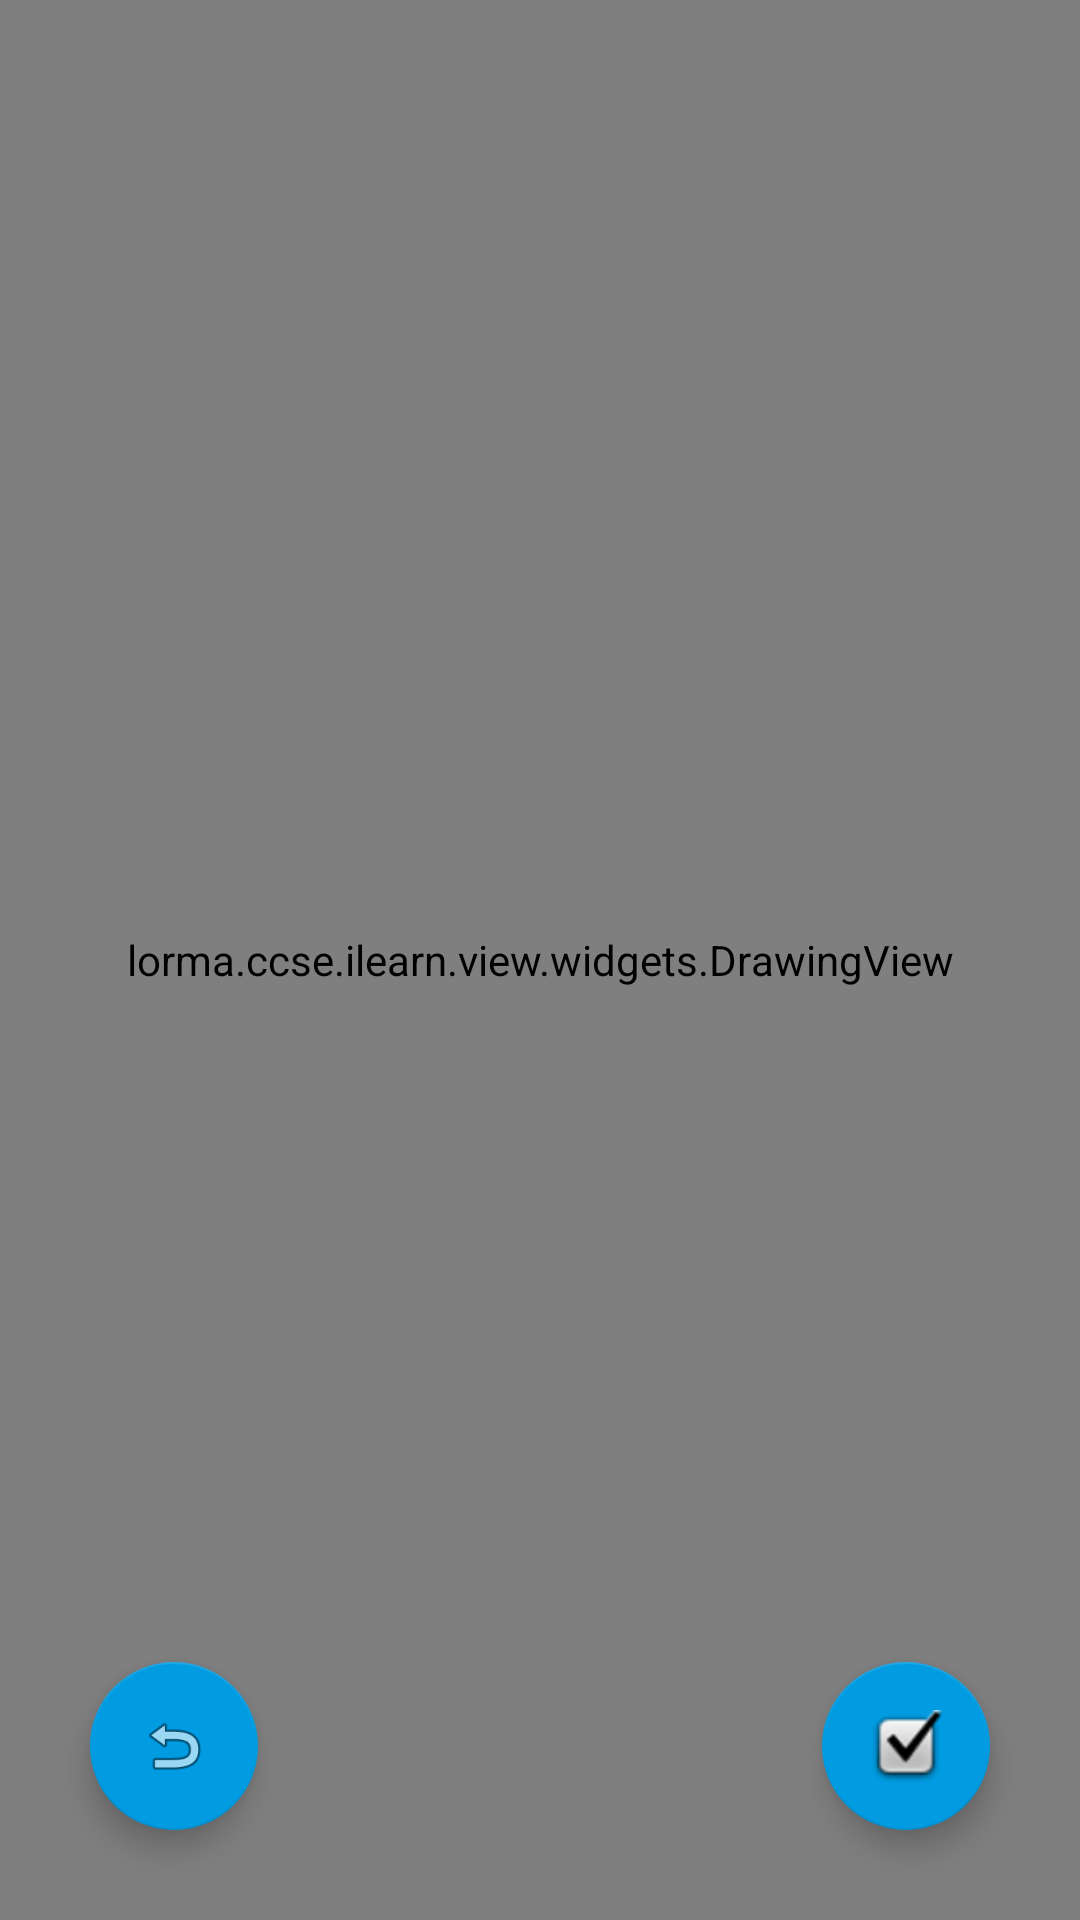

Locate icon controls on the screen. Image size 1080px x 1920px, boxes as (x1, y1, x2, y2).
revert: (90, 1662, 258, 1830)
